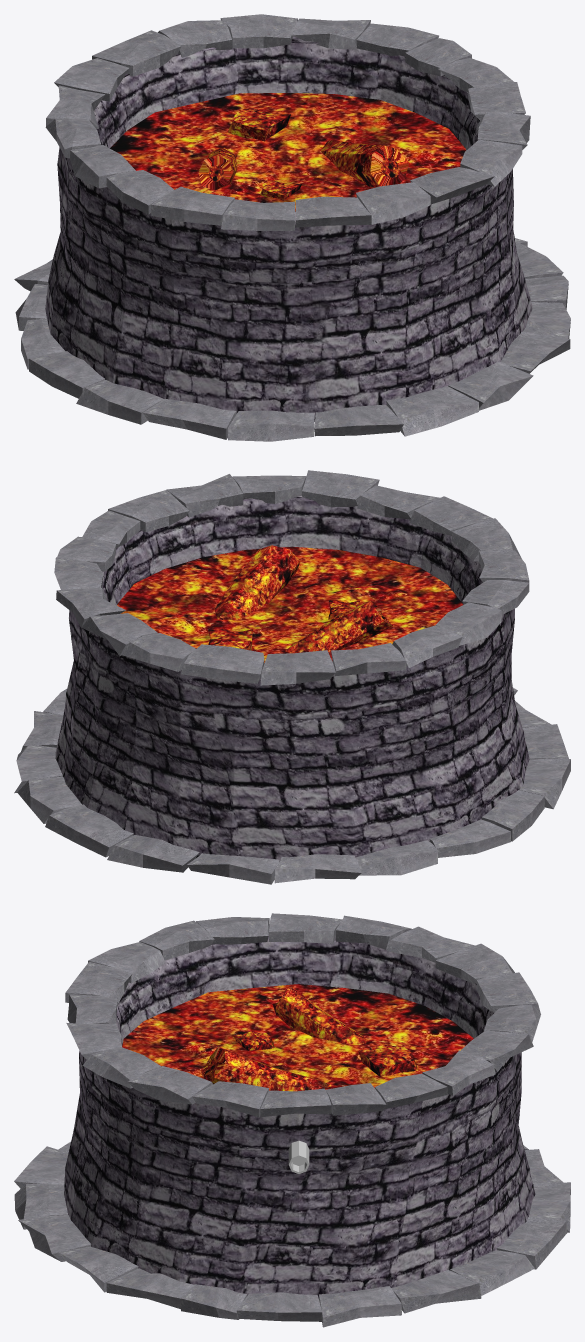
File: Forge.fbx
3 renders of one model, top to bottom at view 1: azimuth 30°, elevation 25°; view 2: azimuth 150°, elevation 25°; view 3: azimuth 270°, elevation 25°, orthographic. The views are drawn at different scales.
Parts seen in each view (by area): view 1: Forge; view 2: Forge; view 3: Forge.
Part boxes in pixels (box(x1,y1,x2,y2)): Forge: box(14, 14, 570, 441); Forge: box(14, 470, 570, 884); Forge: box(14, 913, 570, 1327).
Size of the model in its own units: 1.73 by 0.7106 by 1.74.
